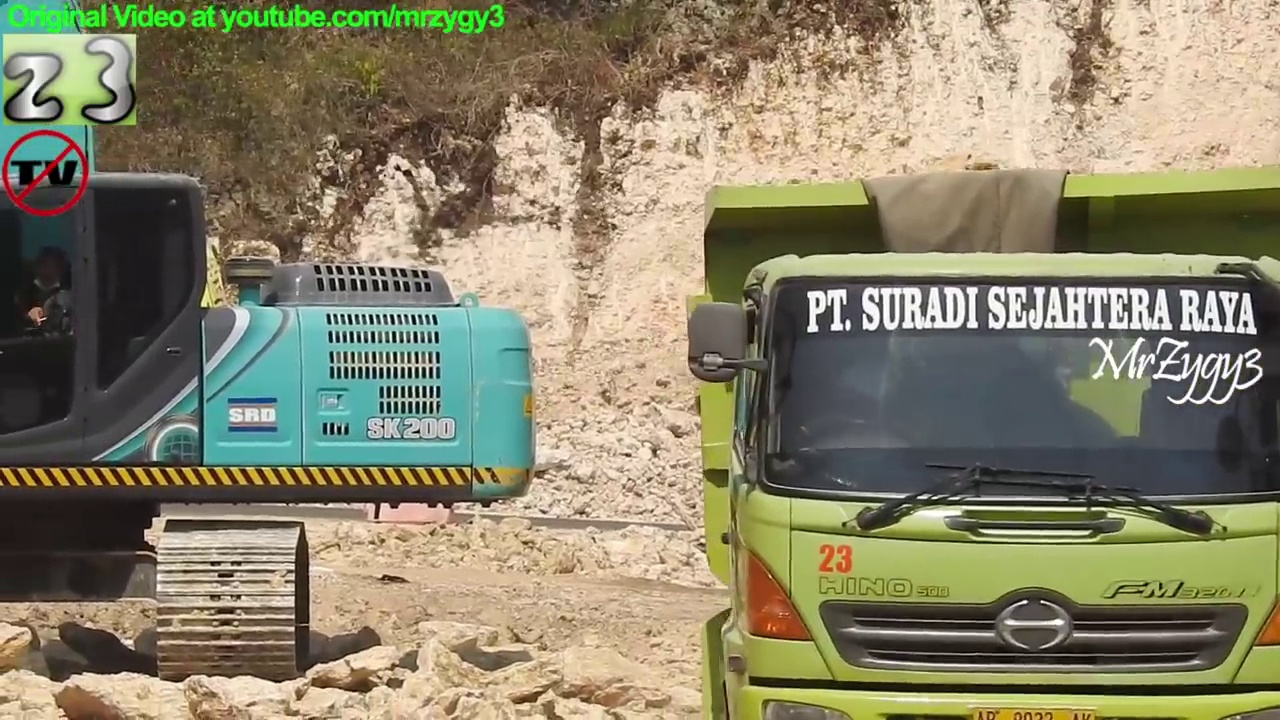excavator: (1, 1, 543, 683)
truck: (685, 174, 1280, 720)
